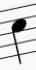note: (5, 5, 31, 65)
